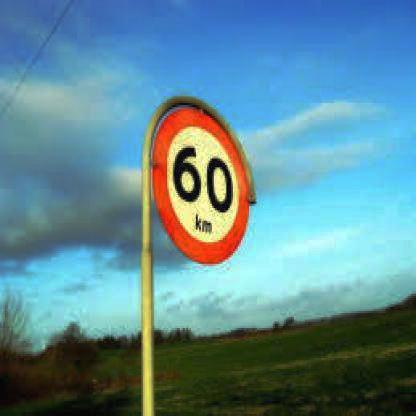Speed Limit -60-: (149, 102, 258, 264)
